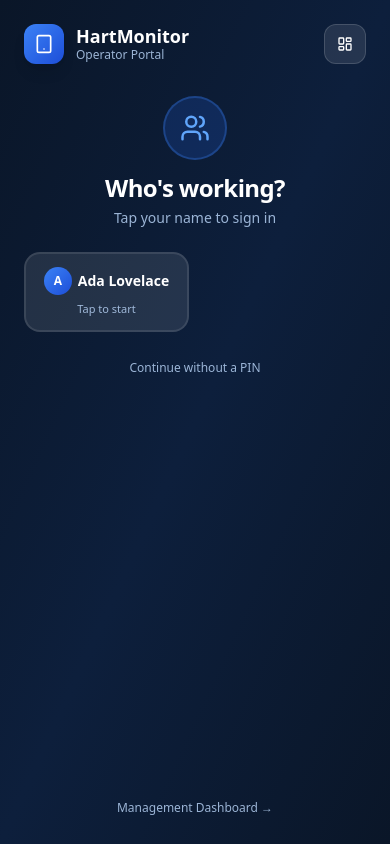
Test: an interrupted job comes back as ONE row › shows one Resume row per piece of work, not one per open completion
Click the text "Ada Lovelace" at (124, 281), box [78,271,169,291]
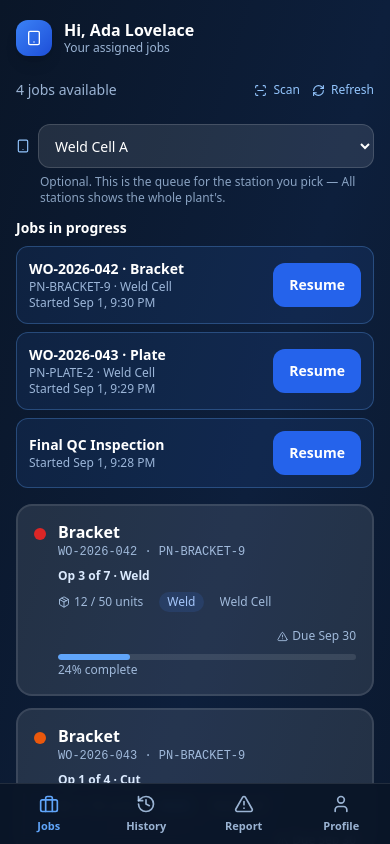
Now the text "4 jobs available" is shown, box [16,80,117,100]
Now the number of elements with test id "resume-row" is 3, box [16,246,374,324]; [16,332,374,410]; [16,418,374,488]
Now the number of buttons "Resume" is 3, box [273,263,361,307]; [273,349,361,393]; [273,431,361,475]
